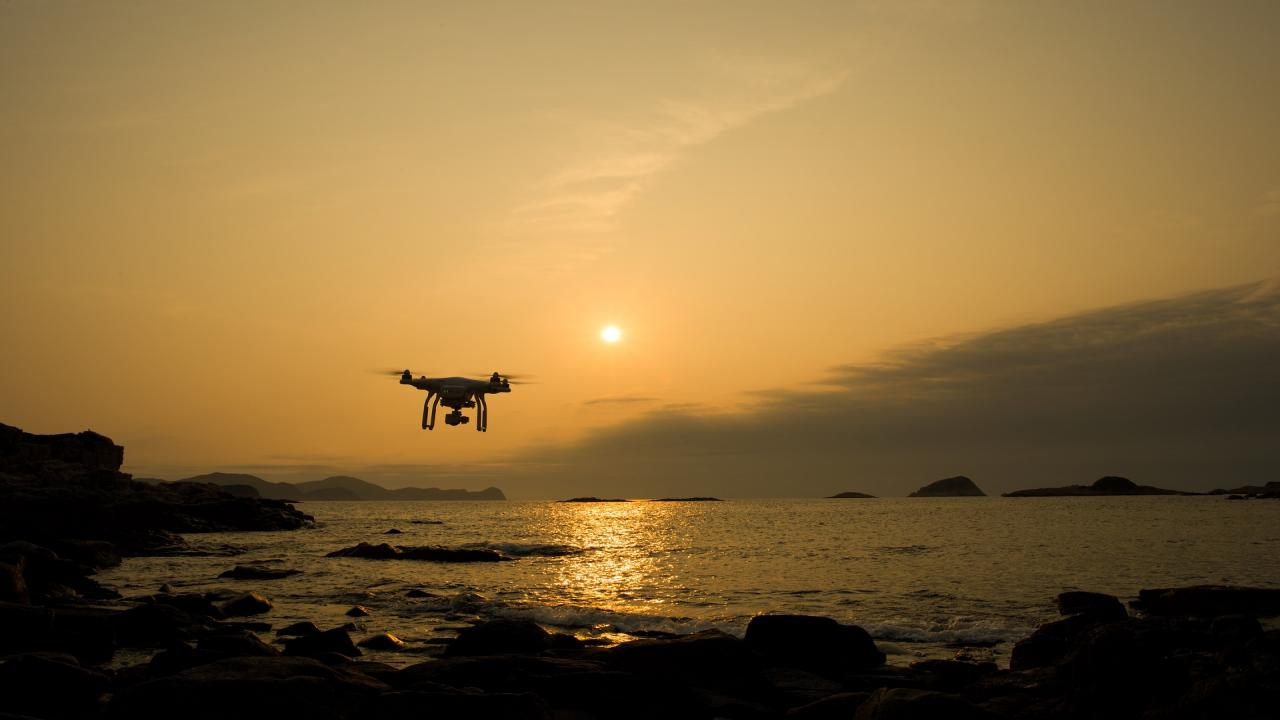Drone: (358, 350, 552, 442)
